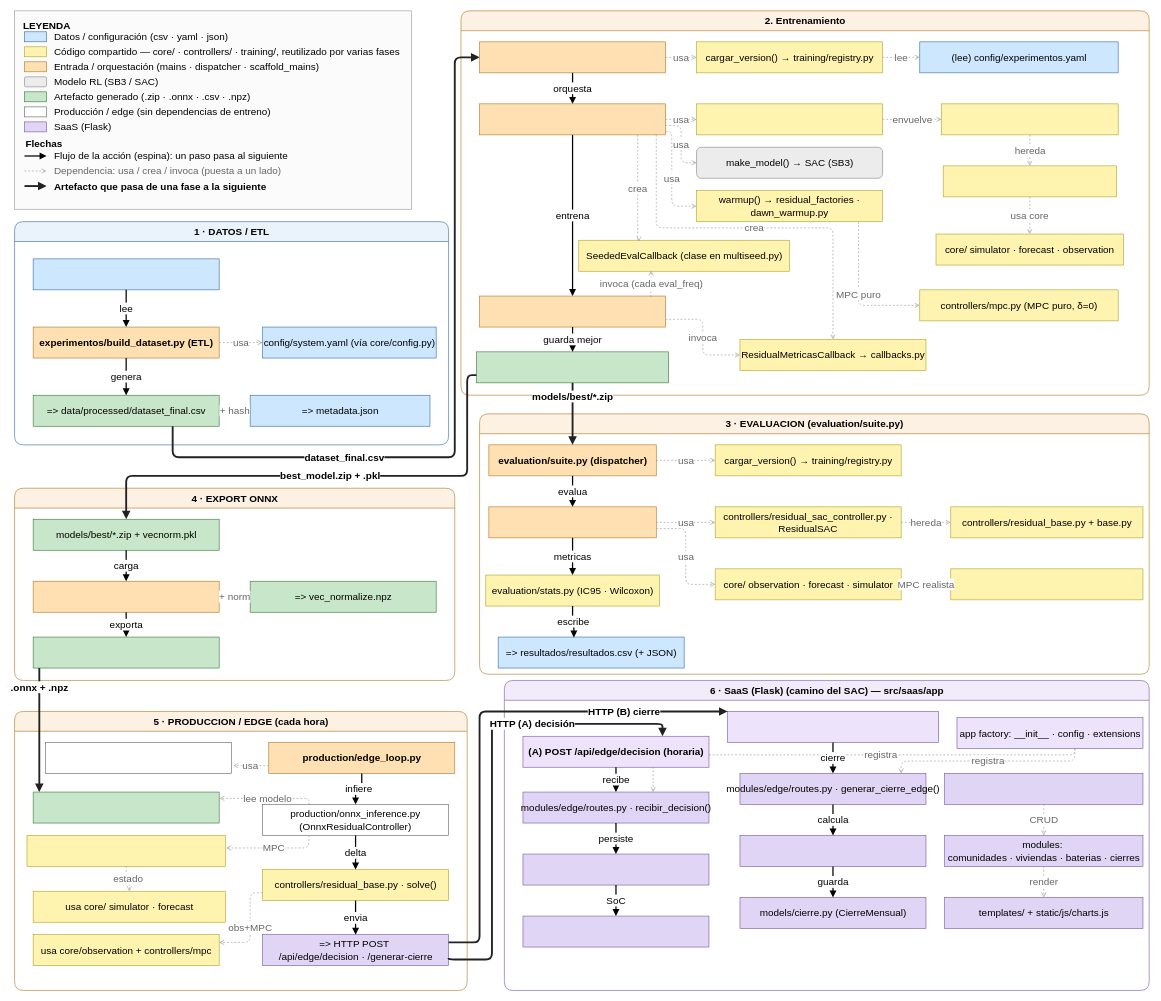
The diagram is 1161 pixels wide and 1001 high, and some of its shapes have lost their labels. The centre of each missing label's shape, as x and y in pixels:
"(B) POST /api/edge/generar-cierre (mensual)" goes at point (832, 726).
"(lee) .onnx + vec_normalize.npz" goes at point (126, 807).
"=> models/best/residual_sac_SAC-C.zip" goes at point (572, 367).
"=> residual_sac_actor.onnx" goes at point (126, 652).
"cierres/routes.py · _calcular_cierre_desde_operaciones()" goes at point (832, 850).
"controllers/mpc.py (MPC realista)" goes at point (1046, 584).
"crear_mpc() → controllers/mpc.py" goes at point (125, 850).
"data/raw/ (4 csv)" goes at point (126, 274).
"envs/energy_env_base.py (EnergyEnvBase)" goes at point (1029, 181).
"envs/energy_env_continuo.py (EnergyEnvContinuo)" goes at point (1029, 119).
"evaluar_multiseed() → evaluation/unified.py" goes at point (572, 522).
"get_feed() → production/data_feed.py" goes at point (138, 757).
"make_envs() → residual_factories.py" goes at point (789, 119).
"model.learn() (bucle de entreno)" goes at point (572, 311).
"models/bateria.py (actualiza soc_actual)" goes at point (615, 931).
"models/operacion.py (OperacionHoraria)" goes at point (615, 869).
"models: vivienda · comunidad · acceso · usuario" goes at point (1043, 788).
"production/export_onnx.py" goes at point (126, 596).
"scaffold_mains.entrenar → entrenar_multiseed (multiseed.py)" goes at point (572, 119).
"training/mains/main_residual_sac.py" goes at point (572, 57).
